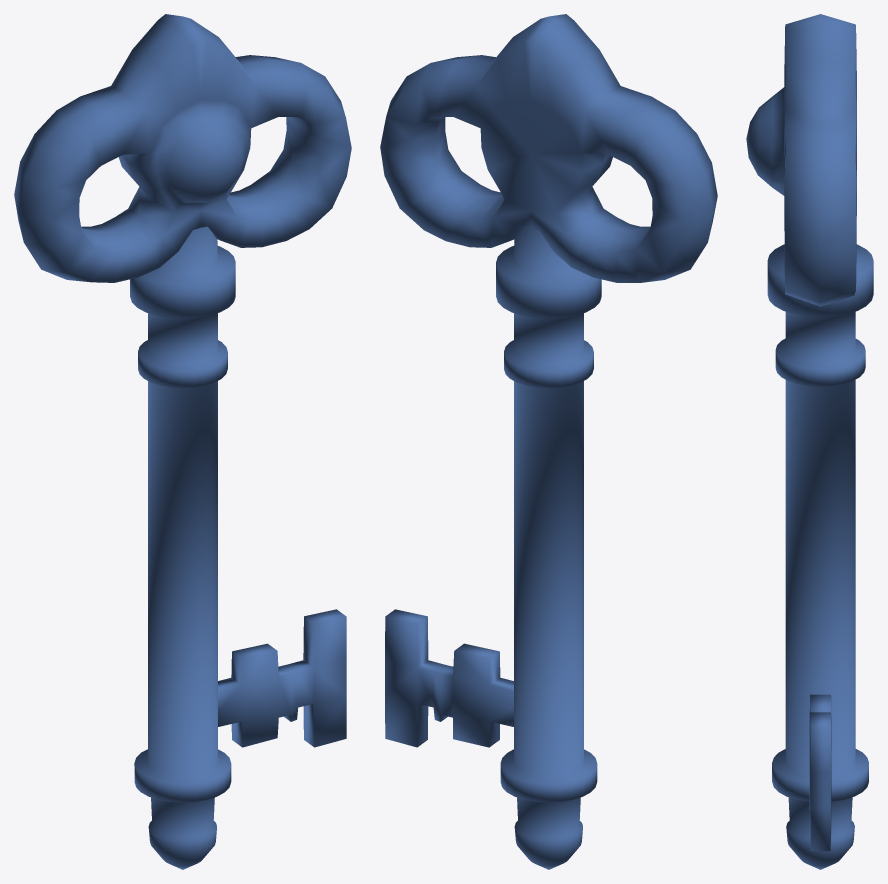
File: key.fbx
3 views of the same model, side by side, from view 1: azimuth 30°, elevation 25°; view 2: azimuth 150°, elevation 25°; view 3: azimuth 270°, elevation 25° (orthographic).
Parts seen in each view (by area): view 1: key1_low; view 2: key1_low; view 3: key1_low.
Part boxes in pixels (left/top/right/bottom): key1_low: left=14, top=14, right=351, bottom=869; key1_low: left=380, top=14, right=717, bottom=869; key1_low: left=746, top=14, right=873, bottom=869.
Bounding box in the file's own units: 219 × 73.24 × 544.
